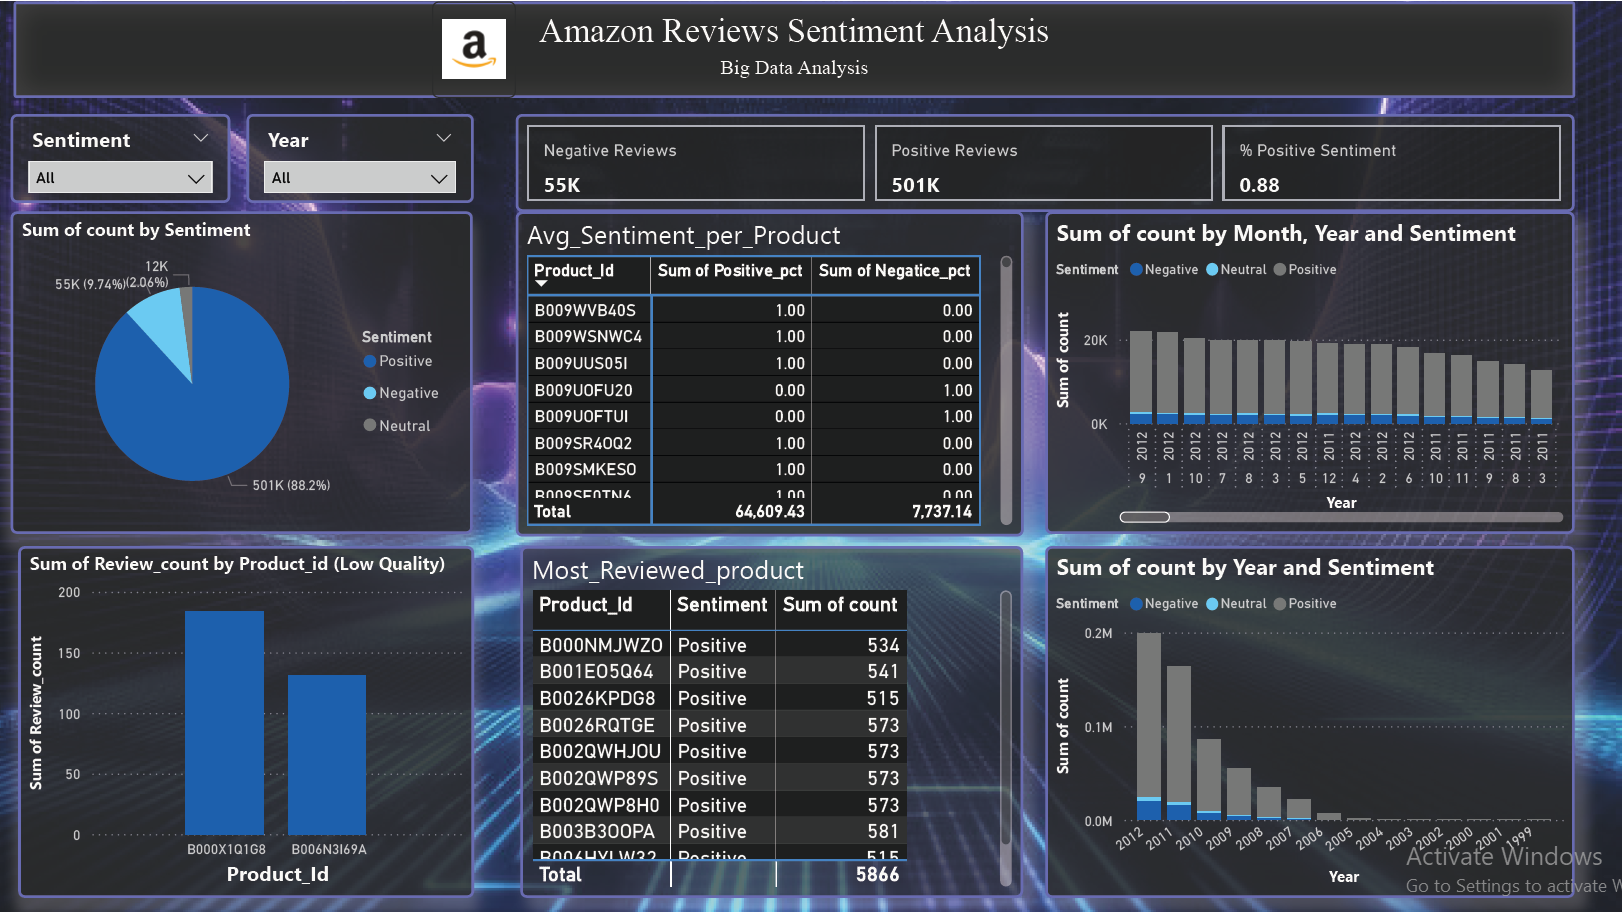

The page's visual inventory and layout, read from the dashboard file:
{"tool":"powerbi","page":{"name":"Page 1","canvas":[1280,720],"ordinal":0},"visuals":[{"type":"pieChart","title":"Sum of count by Sentiment","fields":{"Category":["sentiment_count._id"],"Y":["Sum(sentiment_count.count)"]},"box":[10,165.7,364.3,254.3],"z":0},{"type":"pivotTable","title":"Avg_Sentiment_per_Product","fields":{"Rows":["avg_sentiment_per_product._id"],"Values":["Sum(avg_sentiment_per_product.Positive_pct)","Sum(avg_sentiment_per_product.Negatice_pct)"]},"box":[407.1,165.7,400,255.7],"z":1000},{"type":"columnChart","title":"Sum of Review_count by Product_id (Low Quality)","fields":{"Category":["low_quality_product._id"],"Y":["Sum(low_quality_product.Review_count)"]},"box":[15.9,428.5,359.2,277],"z":2000},{"type":"tableEx","title":"Most_Reviewed_product","fields":{"Values":["most_reviewed_product.Product_Id","most_reviewed_product.Sentiment","Sum(most_reviewed_product.count)"]},"box":[411.4,428.6,395.7,277.1],"z":3000},{"type":"slicer","fields":{"Values":["sentiment_count._id"]},"box":[10,88.6,172.9,70],"z":4000},{"type":"slicer","fields":{"Values":["yearly_sentiment.Year"]},"box":[195.7,88.6,178.6,70],"z":5000},{"type":"textbox","box":[11.4,0,1230,75.7],"z":6000},{"type":"image","box":[341.4,0,65.7,75.7],"z":7000},{"type":"columnChart","fields":{"Category":["monthly_sentiment.Month","monthly_sentiment.Year"],"Y":["Sum(monthly_sentiment.count)"],"Series":["monthly_sentiment.Sentiment"]},"box":[824.3,165.7,417.1,254.3],"z":8000},{"type":"columnChart","fields":{"Category":["yearly_sentiment.Year"],"Y":["Sum(yearly_sentiment.count)"],"Series":["yearly_sentiment.Sentiment"]},"box":[824.3,428.6,417.1,277.1],"z":9000},{"type":"cardVisual","fields":{"Data":["sentiment_count.Negative Reviews","sentiment_count.Positive Reviews","sentiment_count.% Positive Sentiment"]},"box":[407.1,88.6,834.3,77.1],"z":10000}]}

Visuals, with their boxes in screenshot pixels (x1, y1, x2, y2), scaled from the page's 1280x720 canvas onto the 1622x912 screenshot:
"Sum of count by Sentiment" pieChart: 13, 210, 474, 532
"Avg_Sentiment_per_Product" pivotTable: 516, 210, 1023, 534
"Sum of Review_count by Product_id (Low Quality)" columnChart: 20, 543, 475, 894
"Most_Reviewed_product" tableEx: 521, 543, 1023, 894
slicer - sentiment_count._id: 13, 112, 232, 201
slicer - yearly_sentiment.Year: 248, 112, 474, 201
textbox: 14, 0, 1573, 96
image: 433, 0, 516, 96
columnChart - monthly_sentiment.Month x monthly_sentiment.Year: 1045, 210, 1573, 532
columnChart - yearly_sentiment.Year x Sum(yearly_sentiment.count): 1045, 543, 1573, 894
cardVisual - sentiment_count.Negative Reviews x sentiment_count.Positive Reviews: 516, 112, 1573, 210
